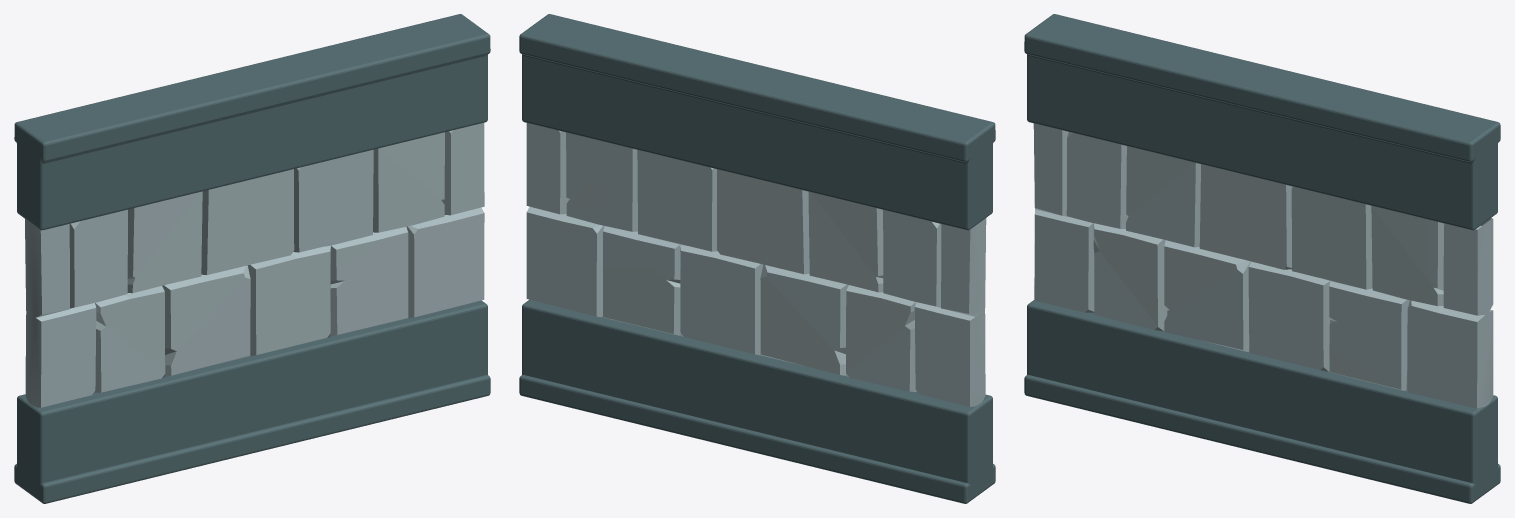
Rendered from wall stone inside.fbx.
3 renders of one model, left to right at view 1: azimuth 30°, elevation 25°; view 2: azimuth 150°, elevation 25°; view 3: azimuth 330°, elevation 25°, orthographic.
Visible parts, largest first — view 1: wall stone inside; view 2: wall stone inside; view 3: wall stone inside.
Boxes of the visible parts, bbox=[...] form: wall stone inside: bbox=[14, 14, 490, 503]; wall stone inside: bbox=[519, 14, 995, 503]; wall stone inside: bbox=[1024, 14, 1500, 503].
Bounding box in the file's own units: 401 × 308 × 46.25.
